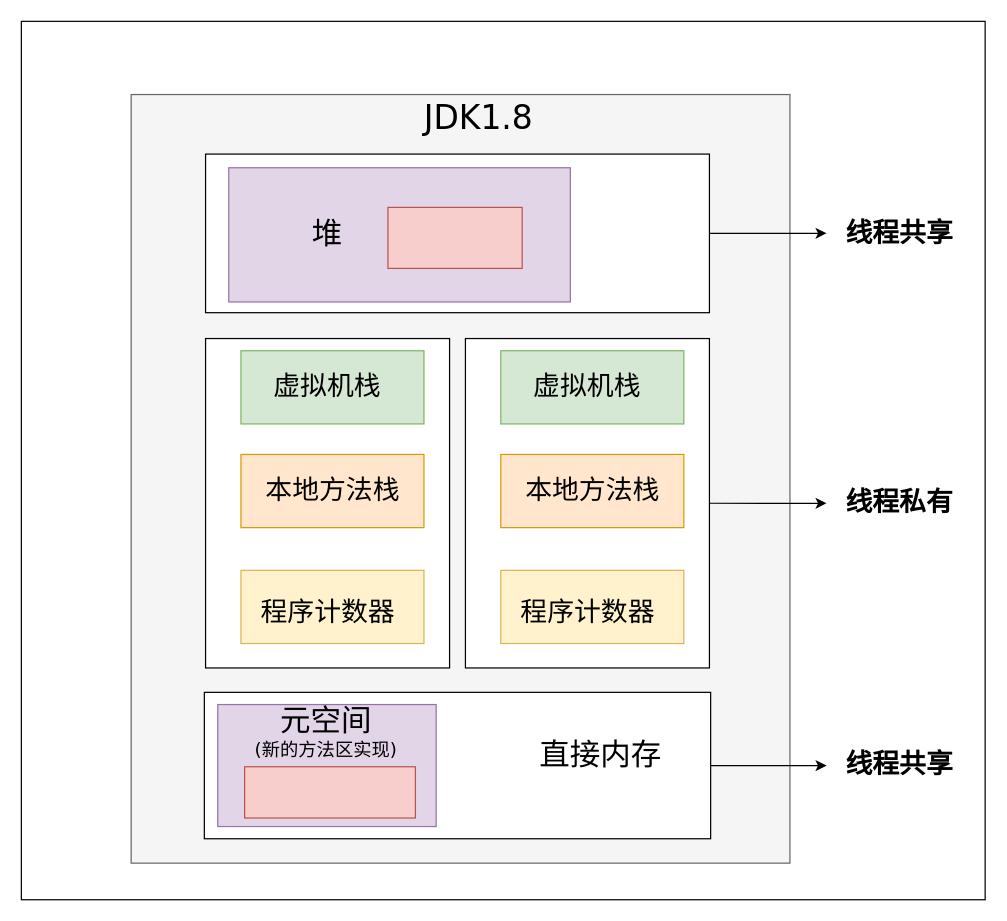
The diagram is 1007 pixels wide and 921 high, and some of its shapes have lost their labels. The shapes that lost their labels are listed below. From the top down, each one's centre as x and y in pixels, then its label:
At point 454,237: "字符串常量池".
At point 329,792: "运行时常量池".
